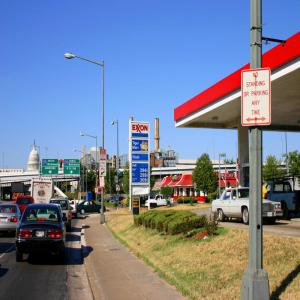Vehicle-registration-plate: (35, 231, 46, 238), (268, 213, 273, 218), (1, 219, 7, 223)
